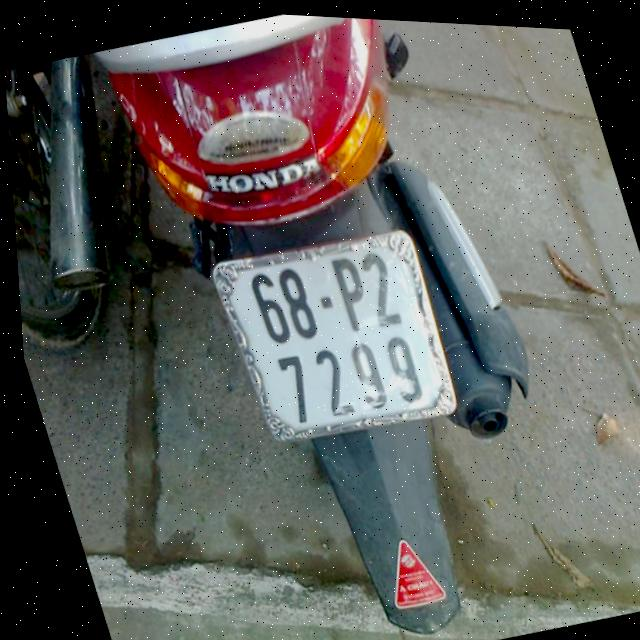motorcycle: (84, 4, 618, 640), (3, 46, 191, 382)
plate: (205, 212, 467, 459)
